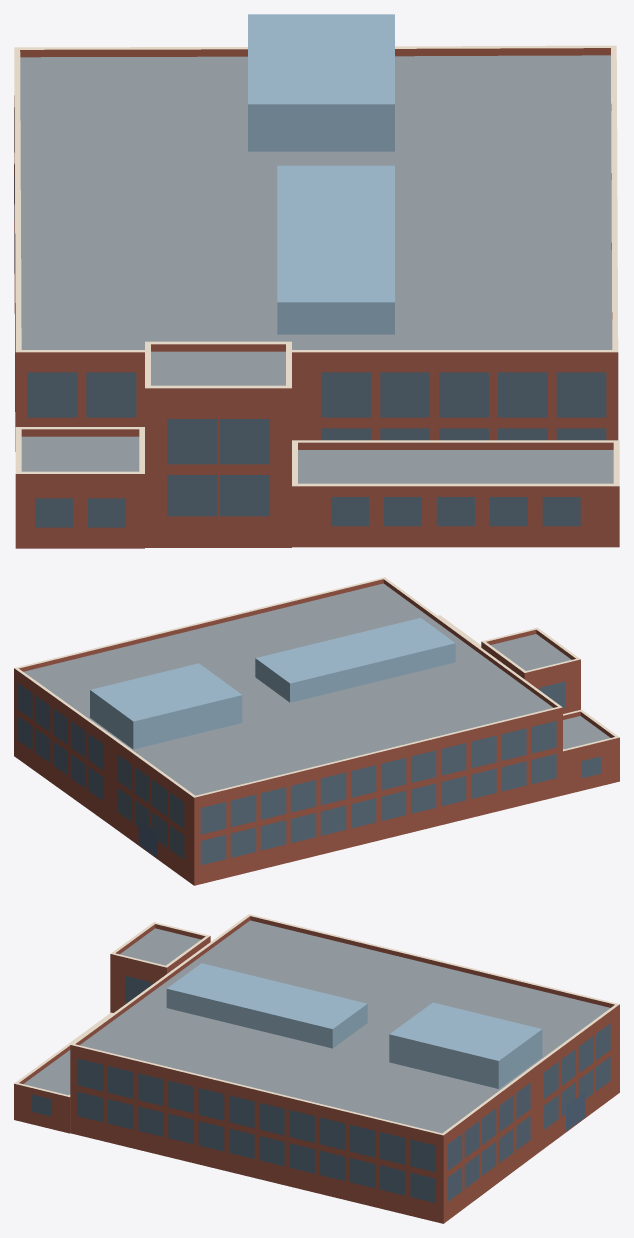
The picture shows the model from 3 angles, top to bottom: view 1: azimuth 30°, elevation 25°; view 2: azimuth 150°, elevation 25°; view 3: azimuth 270°, elevation 25°; orthographic projection. The views are drawn at different scales.
Parts seen in each view (by area): view 1: atrium-building; view 2: atrium-building; view 3: atrium-building.
Part boxes in pixels (x1,y1,x2,y2): atrium-building: (14,14,619,548); atrium-building: (14,577,619,885); atrium-building: (14,914,619,1223).
Size of the model in its own units: 63.92 by 14.2 by 69.53.
